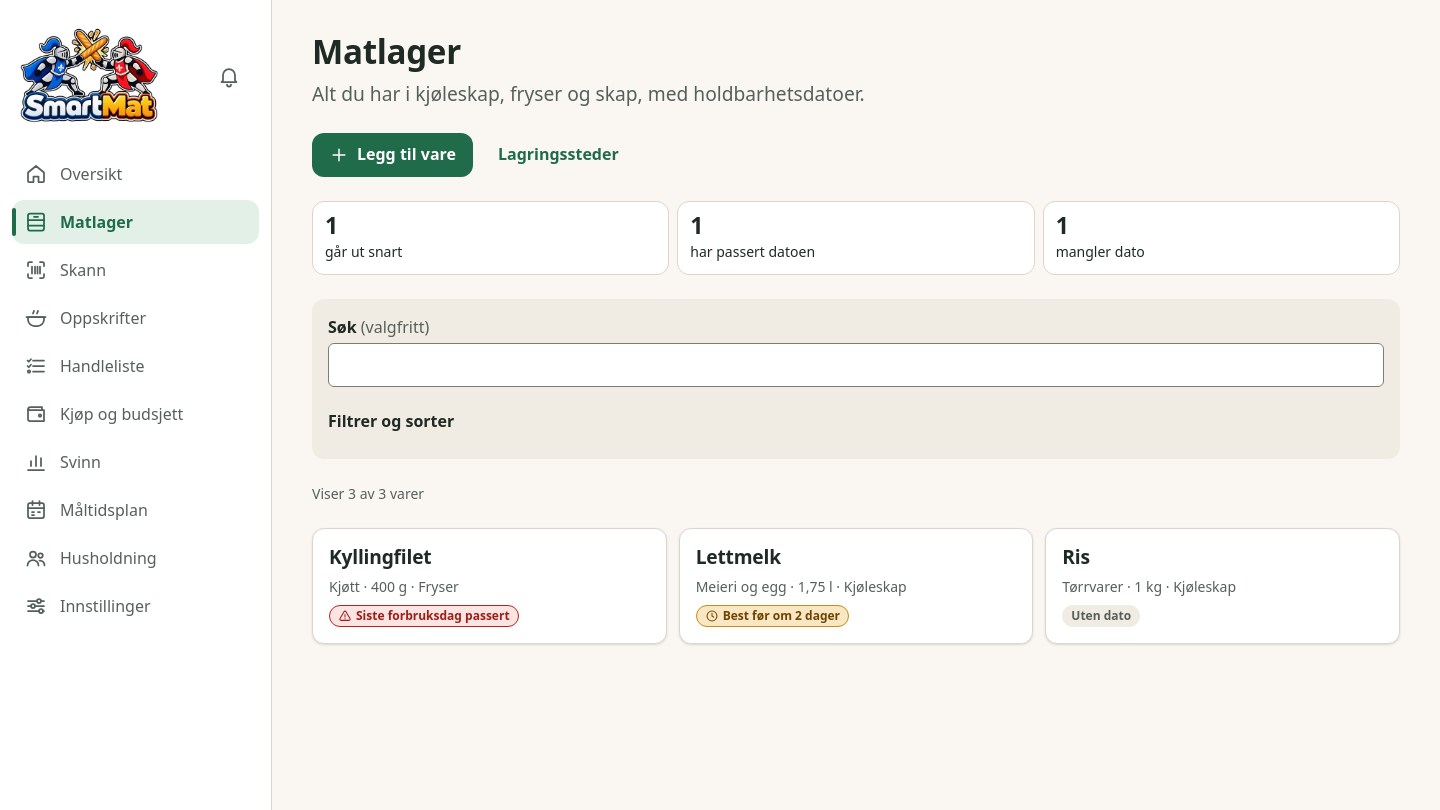
Test: FR-INV-004/005 inventory page › summary at the top: 1 soon, 1 passed, 1 without date – each a link that sets the filter
Click the link "1 har passert datoen": point(753, 251) [677,201,1035,275]
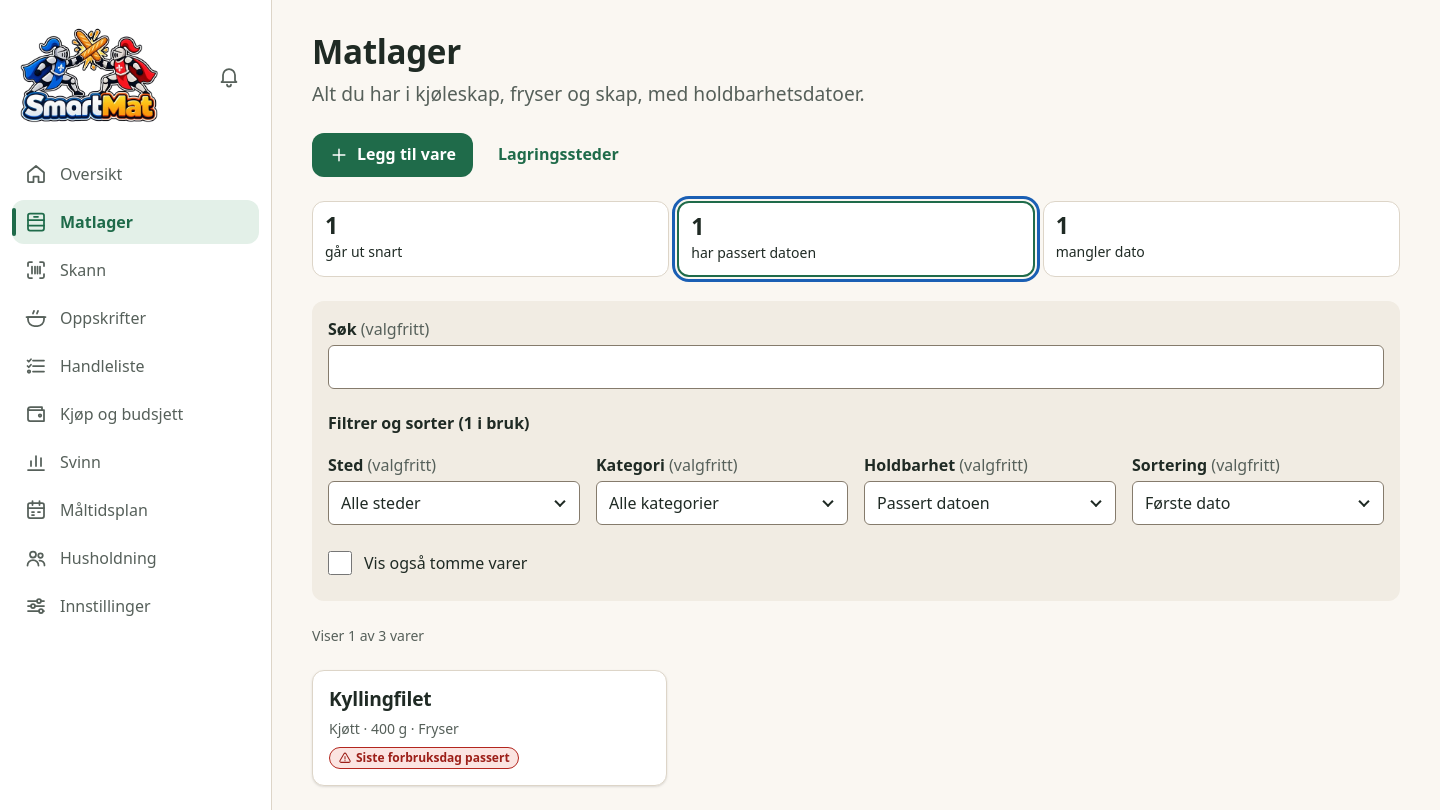
Result: the headings read "Kyllingfilet", in this order at [329,685,432,712]
